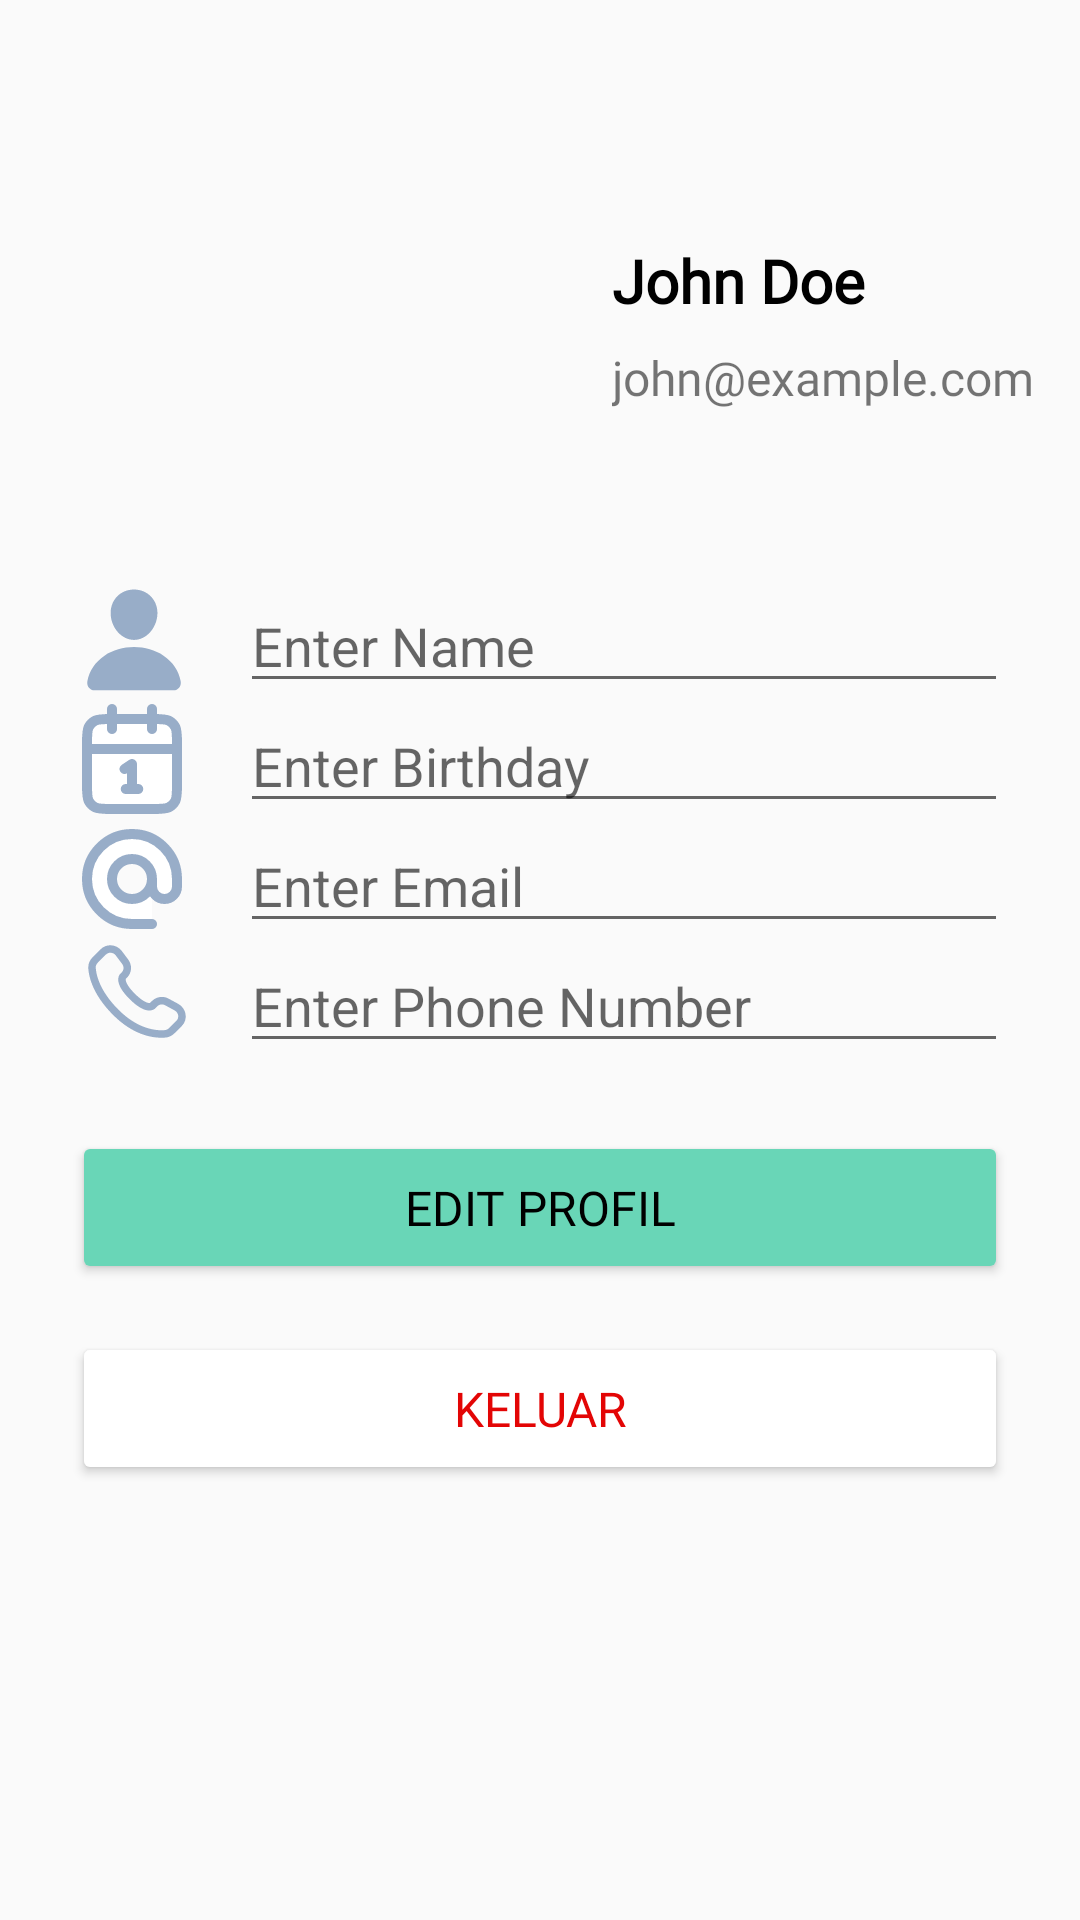

Icons on this 1080 × 1920 Android screen, each with its box as (x1, y1, x2, y2):
date: (82, 704, 182, 814)
emailpic: (82, 829, 182, 929)
phonepic: (88, 945, 186, 1038)
profile: (87, 589, 181, 691)
